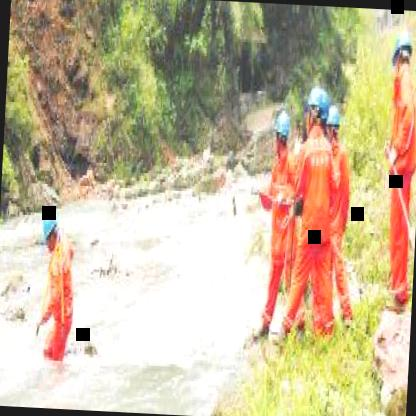helmet: (303, 80, 329, 134), (37, 202, 62, 257), (390, 28, 414, 80), (320, 97, 340, 156), (270, 100, 290, 158)
